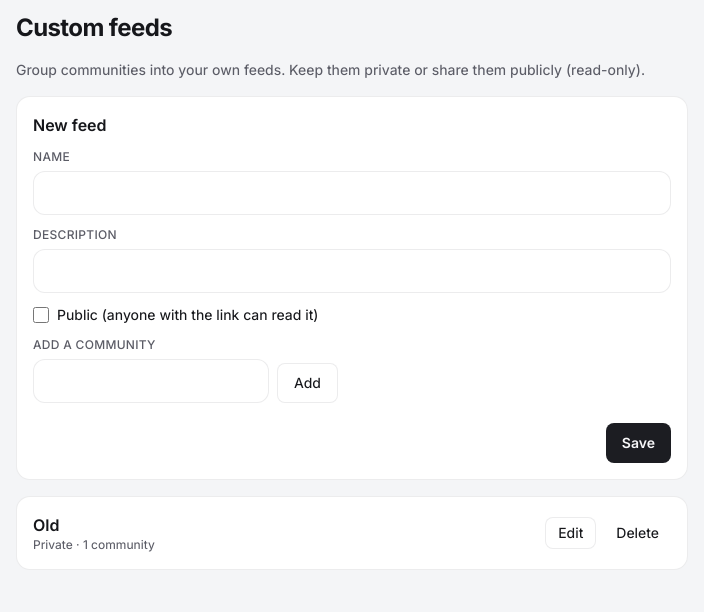
Test case: CustomFeedsPage › edits and deletes an existing feed
Click the button "Edit" at (571, 533), box [545, 517, 596, 549]
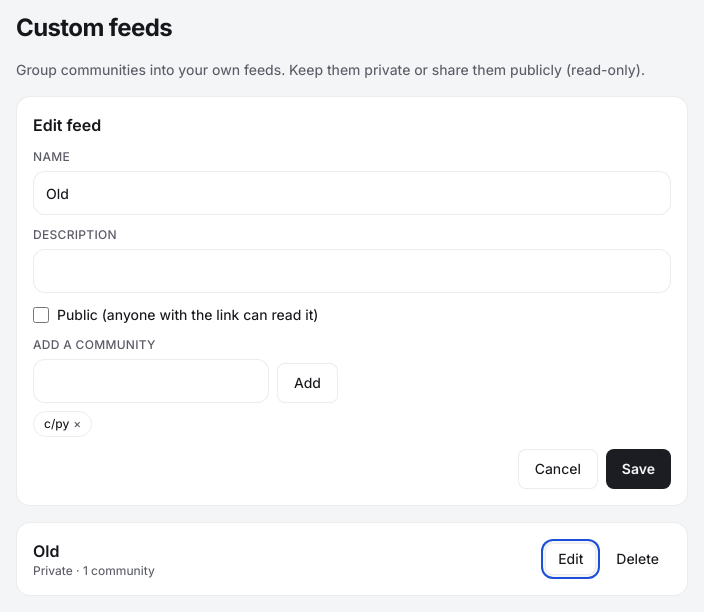
Replace the text in the field labelled "Name" with "Renamed" at (352, 193), box [33, 171, 671, 215]
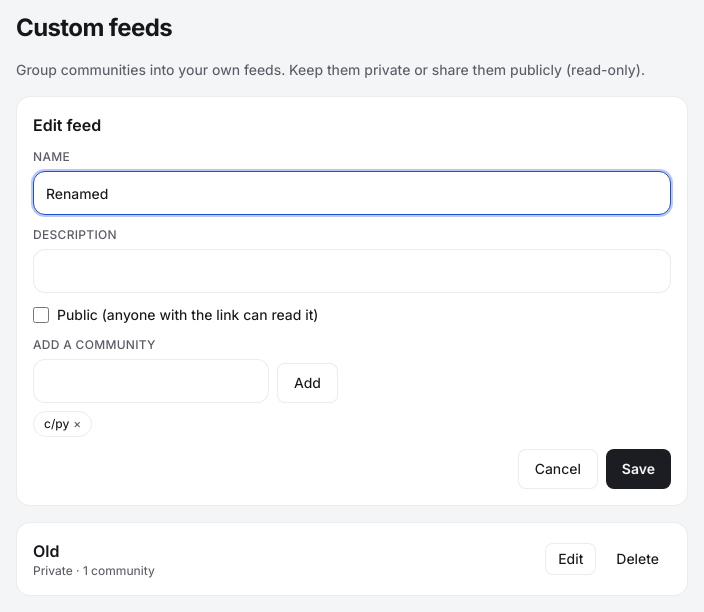
Click the button named "Remove c/py" at (77, 424), box [73, 416, 81, 432]
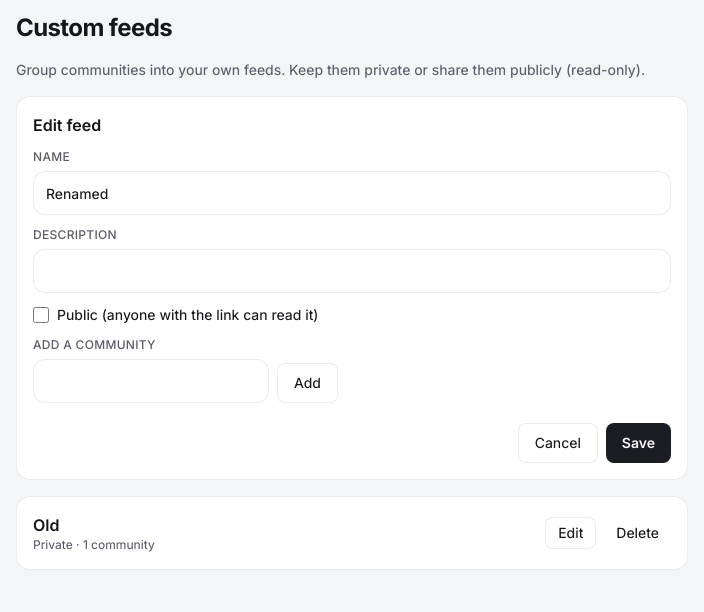
Click the button "Save" at (638, 443), box [606, 423, 671, 463]
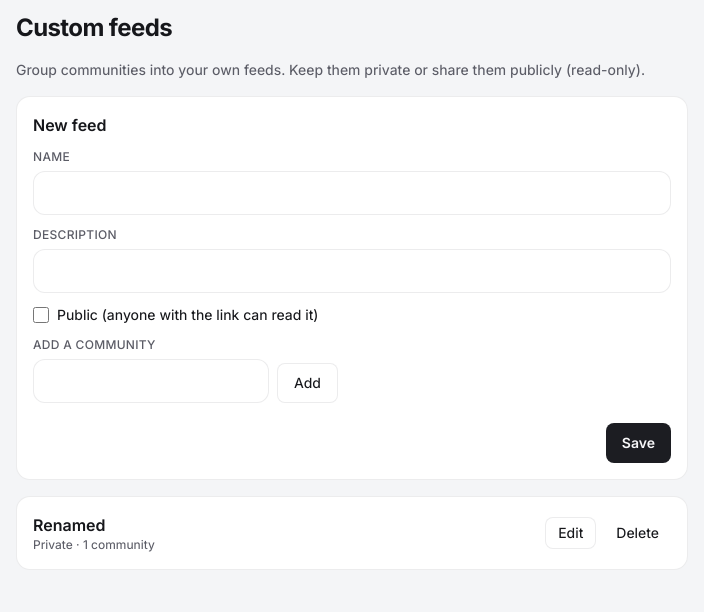
Now the link "Renamed" is shown, box [33, 515, 106, 535]
Click the button "Delete" at (638, 533), box [604, 517, 671, 549]
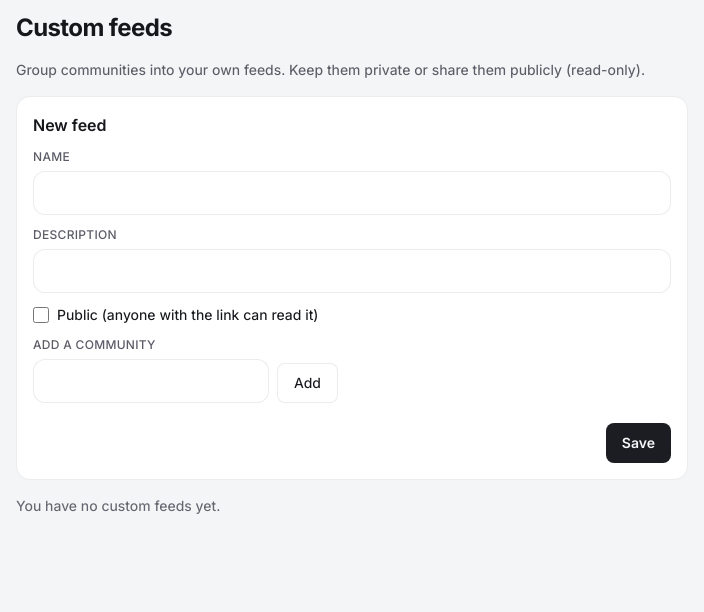
Now the text "You have no custom feeds yet." is shown, box [16, 497, 220, 514]
